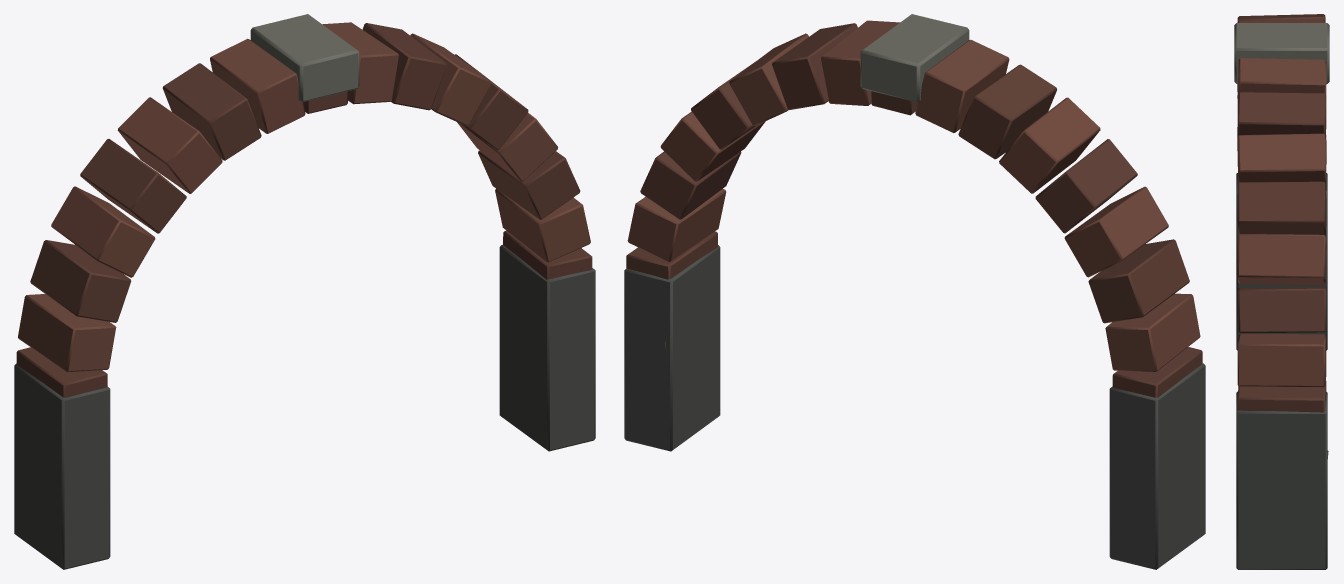
The model's file is brick_arch.glb.
3 renders of one model, left to right at view 1: azimuth 30°, elevation 25°; view 2: azimuth 150°, elevation 25°; view 3: azimuth 270°, elevation 25°, orthographic. The views are drawn at different scales.
Visible parts, largest first — view 1: brick_arch; view 2: brick_arch; view 3: brick_arch.
Part boxes in pixels (x1,y1,x2,y2): brick_arch: (14,14,595,569); brick_arch: (624,14,1205,569); brick_arch: (1234,14,1329,569).
Size of the model in its own units: 14.3 by 11.5 by 2.4.
